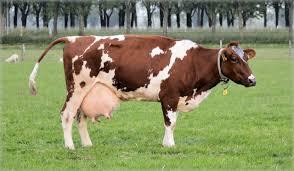cow: (29, 35, 257, 150)
